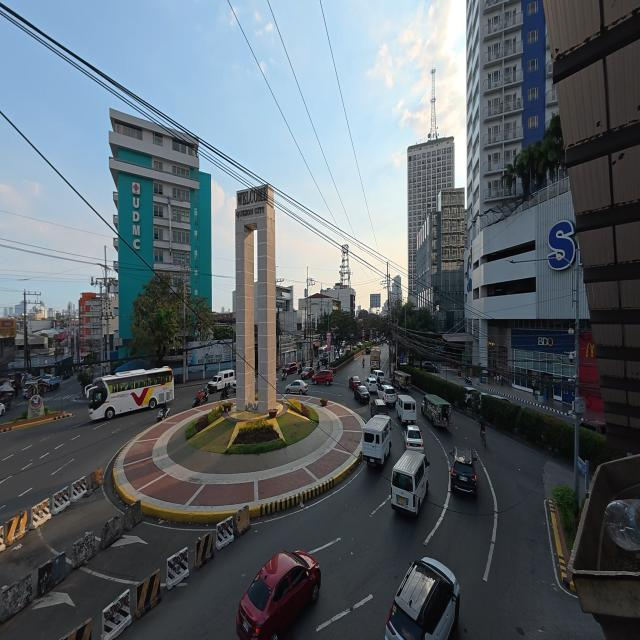bus: (88, 364, 178, 416)
car: (238, 548, 322, 638)
vans: (390, 447, 430, 518), (361, 414, 394, 469)
